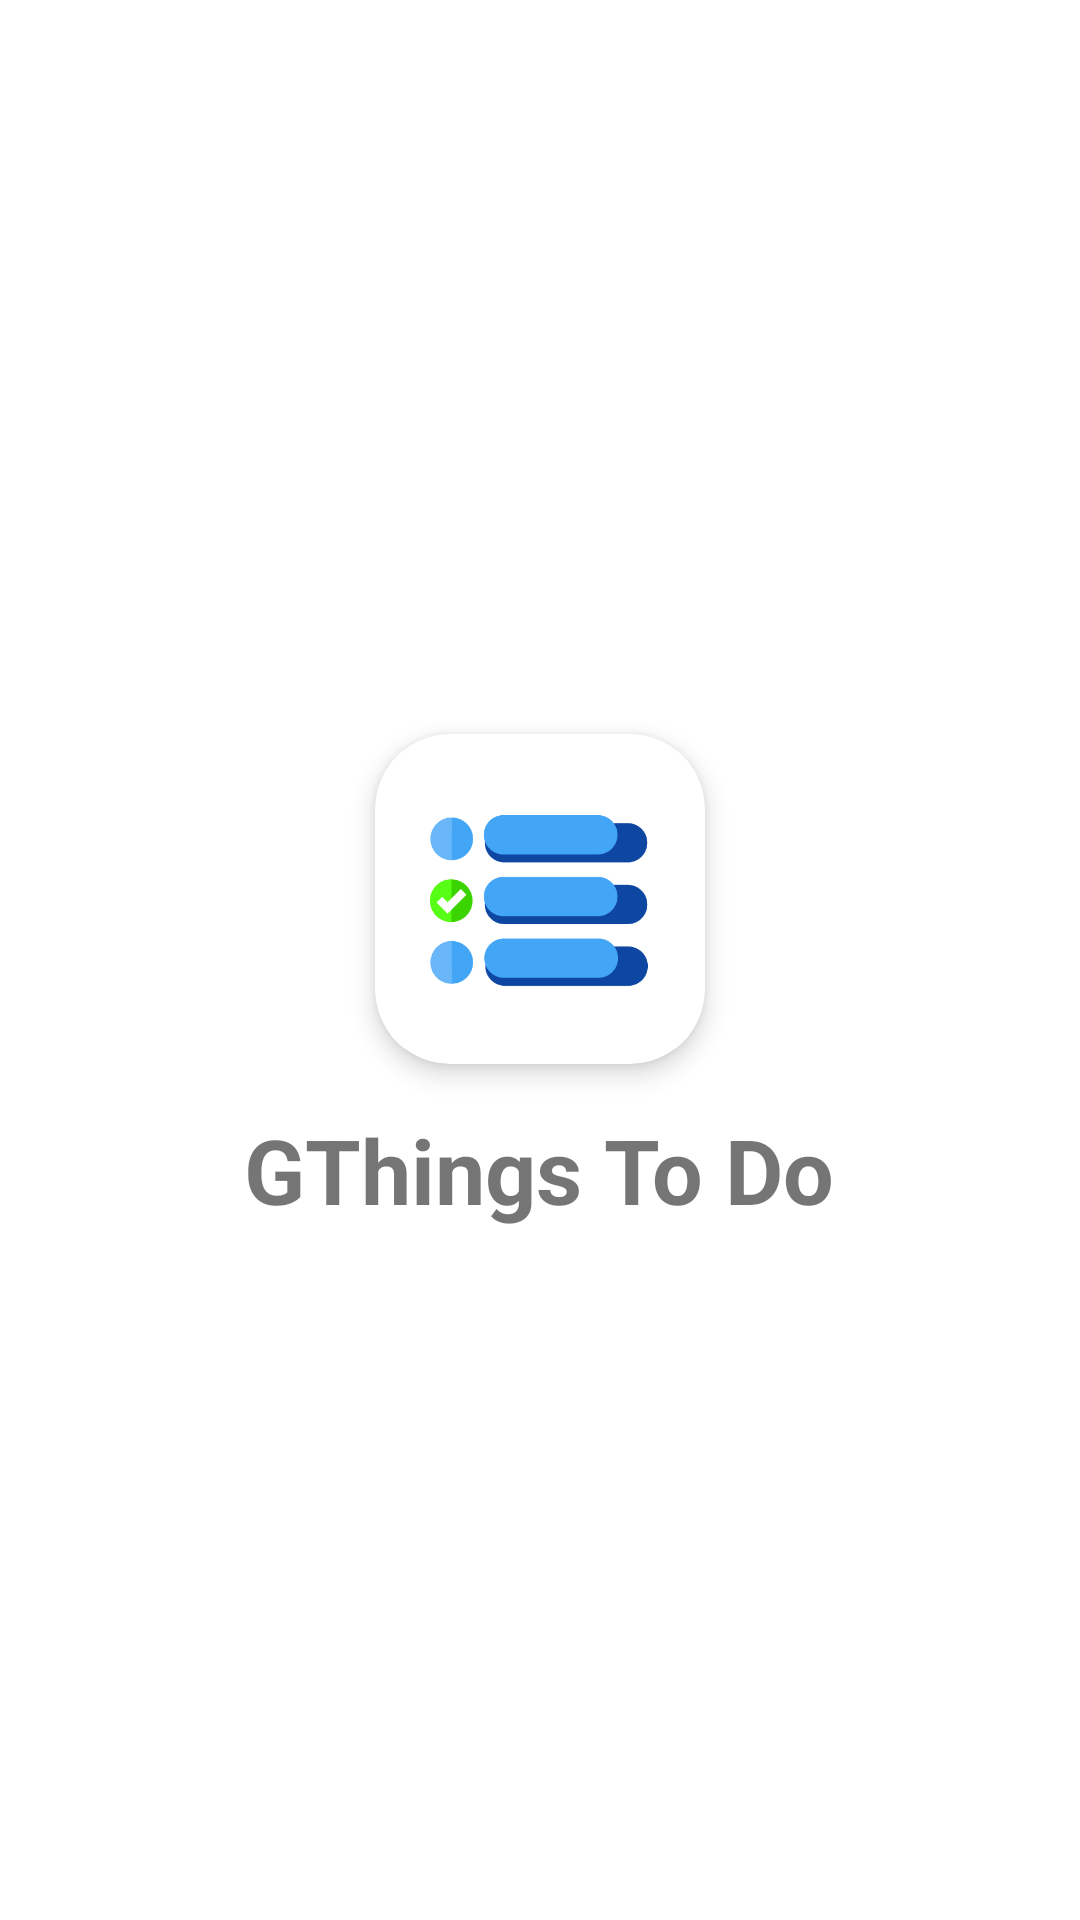

Point at icon controls on the screen. Image size 1080px×1920px, points as [x,y].
todolist: [539,900]
